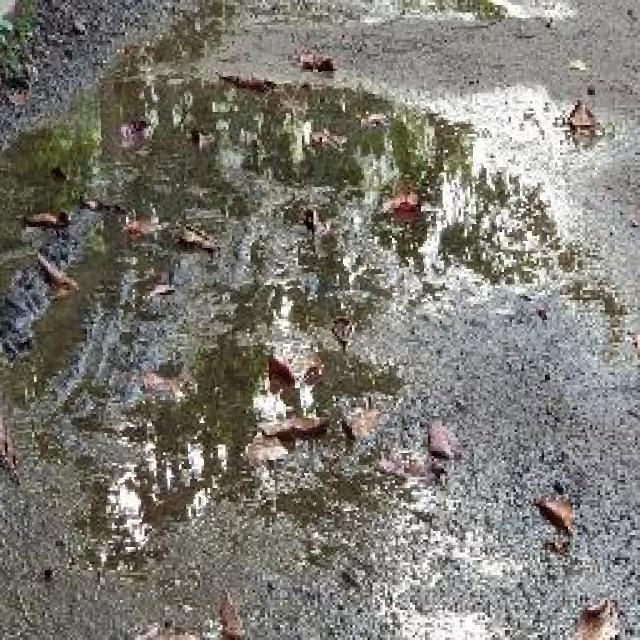puddle: (1, 25, 567, 565)
